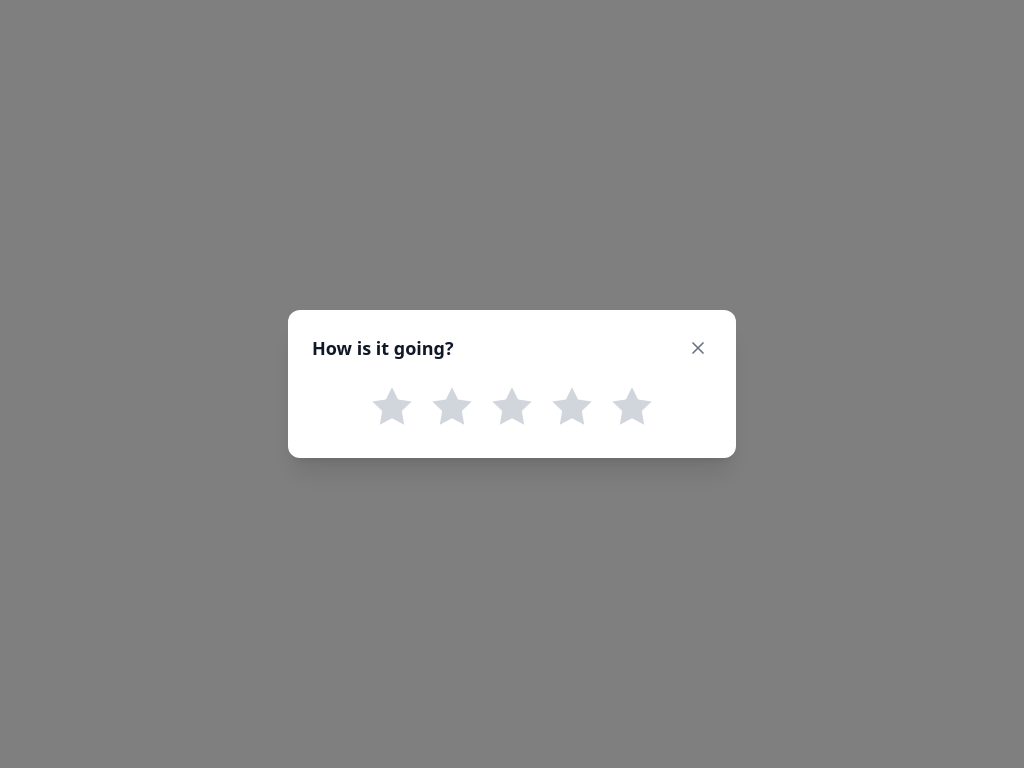
Test: what comes after the star › thanks, keeps the star on screen and asks for more
This screenshot has width=1024, height=768.
Click the button named "star". click: (572, 406)
box: [544,378,600,434]
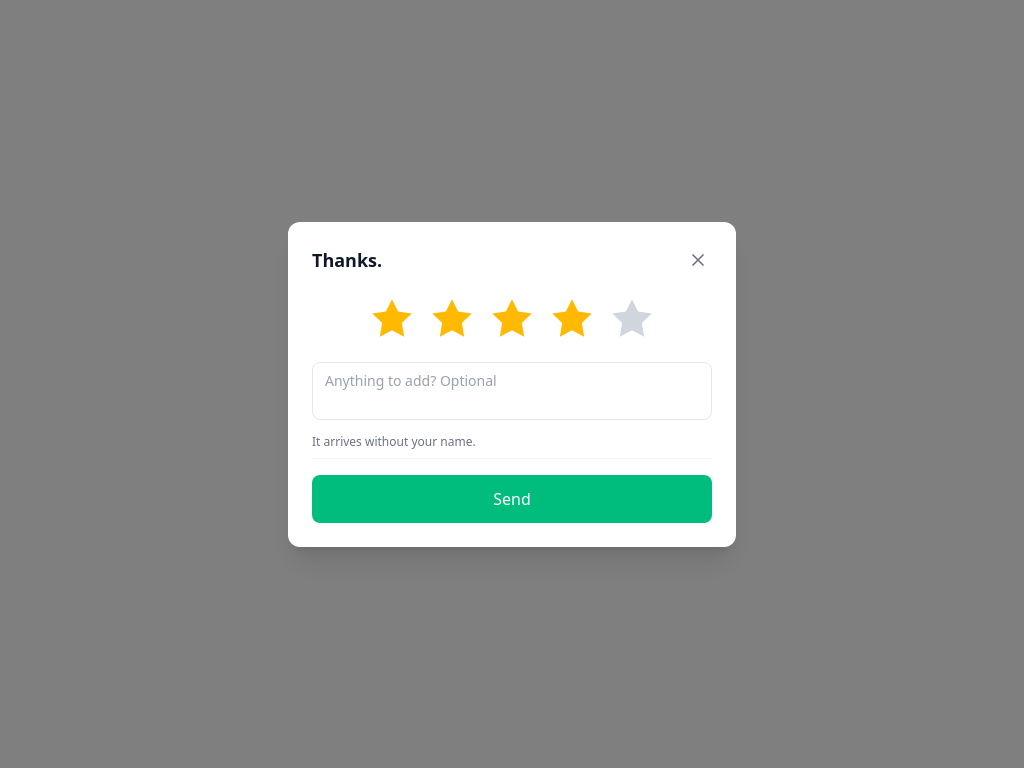
Check: the heading "Thanks." is shown, box [312,246,382,274]
Check: the heading "How is it going?" is gone
Check: the text box with placeholder "Anything to add? Optional" is shown, box [312,362,712,420]
